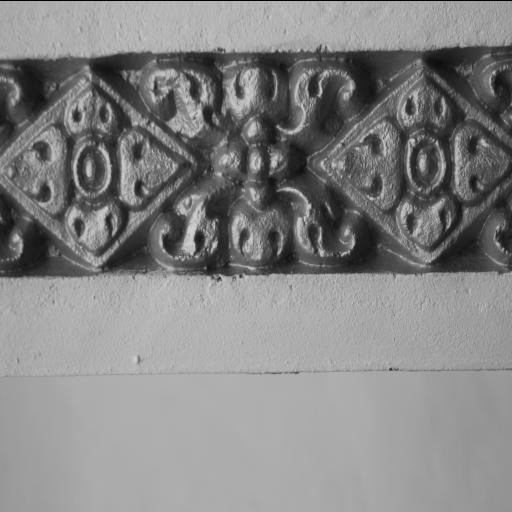hoa: (1, 82, 181, 254), (331, 76, 497, 246)
la: (154, 55, 344, 267)
